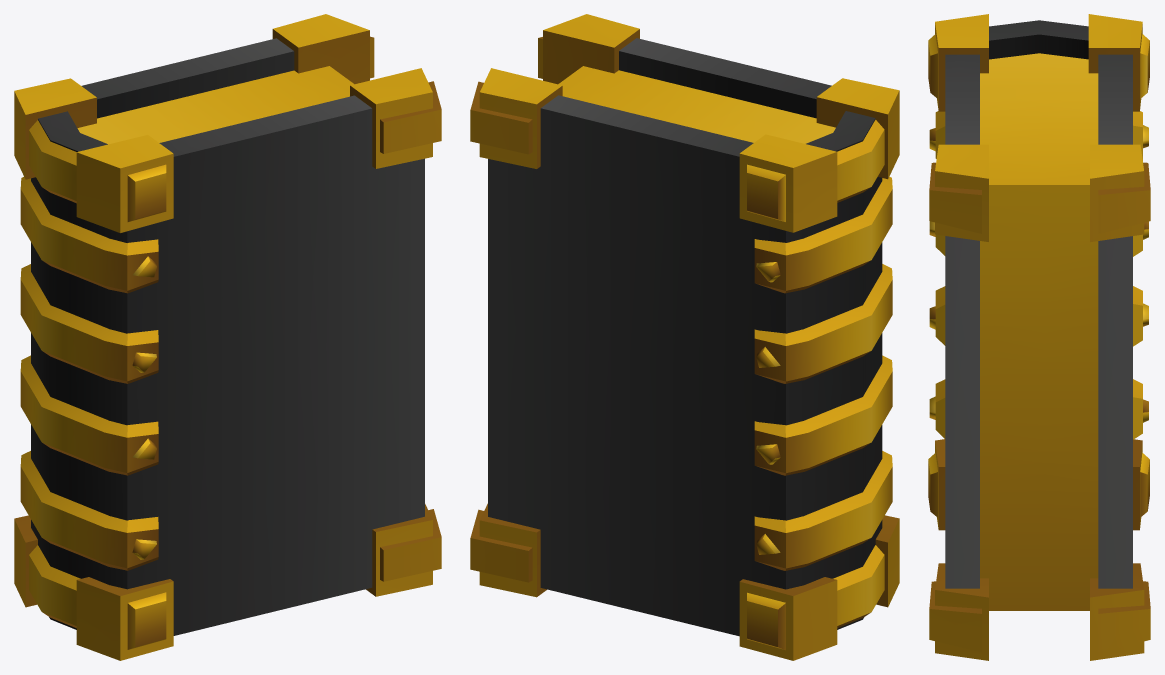
Rendered from SpellBook1h_16.fbx.
3 views of the same model, side by side, from view 1: azimuth 30°, elevation 25°; view 2: azimuth 150°, elevation 25°; view 3: azimuth 270°, elevation 25° (orthographic). The views are drawn at different scales.
Parts seen in each view (by area): view 1: SpellBook1h_16; view 2: SpellBook1h_16; view 3: SpellBook1h_16.
Boxes of the visible parts, box(x1,y1,x2,y2) form: SpellBook1h_16: box(14, 14, 441, 660); SpellBook1h_16: box(470, 14, 899, 660); SpellBook1h_16: box(928, 14, 1150, 660).
Bounding box in the file's own units: 33.79 × 43.84 × 18.33.
